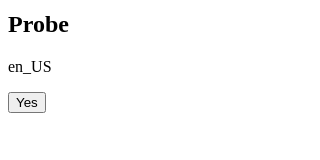
it: the kit's wording on an island › shows a kit phrase the document lacks as its key, and reports it once
The image size is (320, 160).
Click the switch labelled "Yes". click: (27, 102)
box: 8,92 -> 46,113
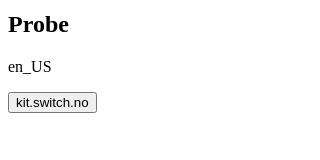
Expected: the text "kit.switch.no" is shown, 16,95 -> 89,110
Click the switch labelled "kit.switch.no". click: (52, 102)
box: 8,92 -> 97,113
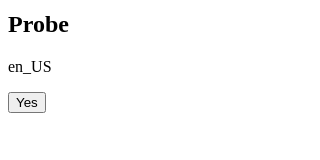
Click the switch labelled "Yes". click: (27, 102)
box: 8,92 -> 46,113
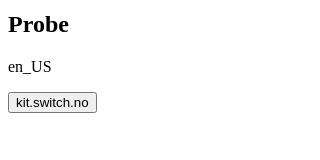
Expected: the text "kit.switch.no" is shown, 16,95 -> 89,110
